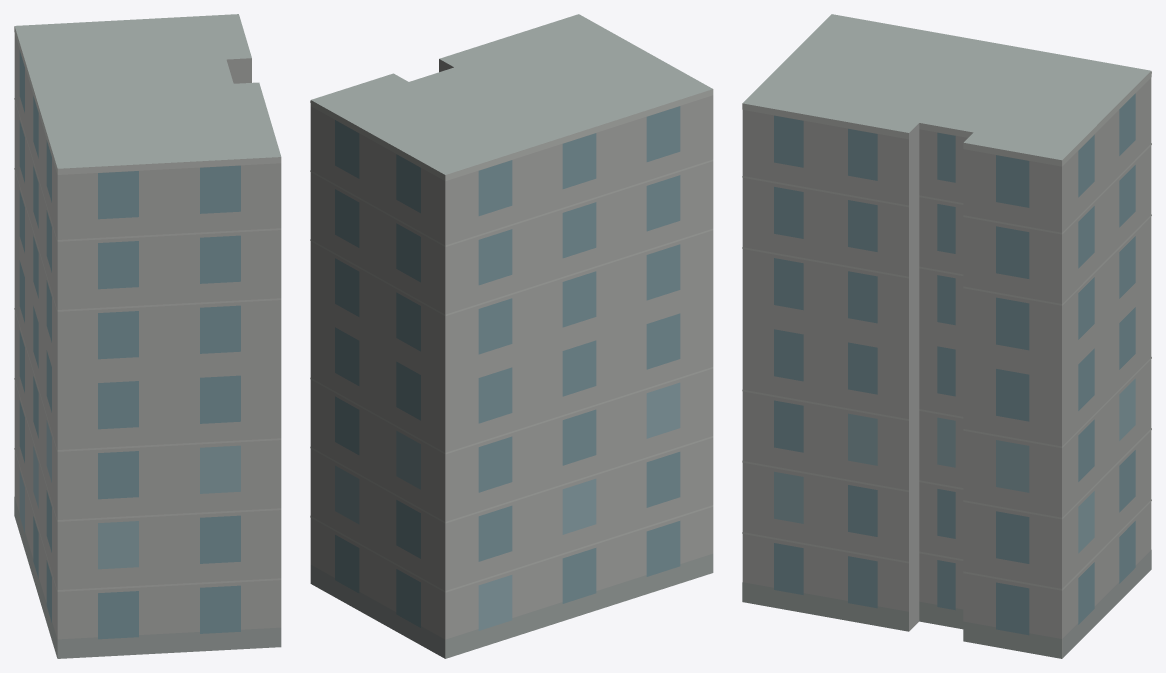
File: survey-upis-32821774.glb
The picture shows the model from 3 angles, left to right: view 1: azimuth 30°, elevation 25°; view 2: azimuth 150°, elevation 25°; view 3: azimuth 270°, elevation 25°; orthographic projection. The views are drawn at different scales.
Visible parts, largest first — view 1: survey-upis-32821774.tmp; view 2: survey-upis-32821774.tmp; view 3: survey-upis-32821774.tmp.
Part boxes in pixels (bbox=[...]): survey-upis-32821774.tmp: bbox=[14, 14, 281, 658]; survey-upis-32821774.tmp: bbox=[310, 14, 713, 658]; survey-upis-32821774.tmp: bbox=[742, 14, 1151, 658].
Bounding box in the file's own units: 12.04 × 19.1 × 14.22.
